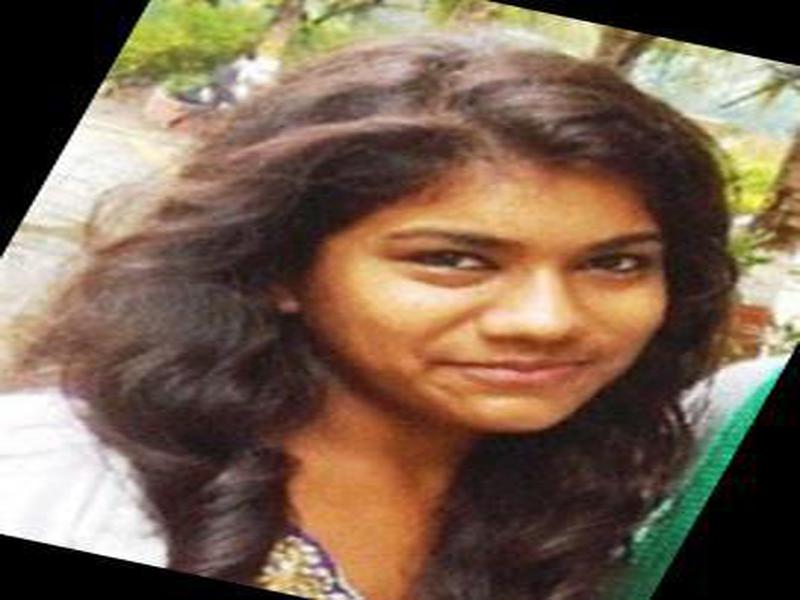without_mask: (316, 191, 666, 438)
